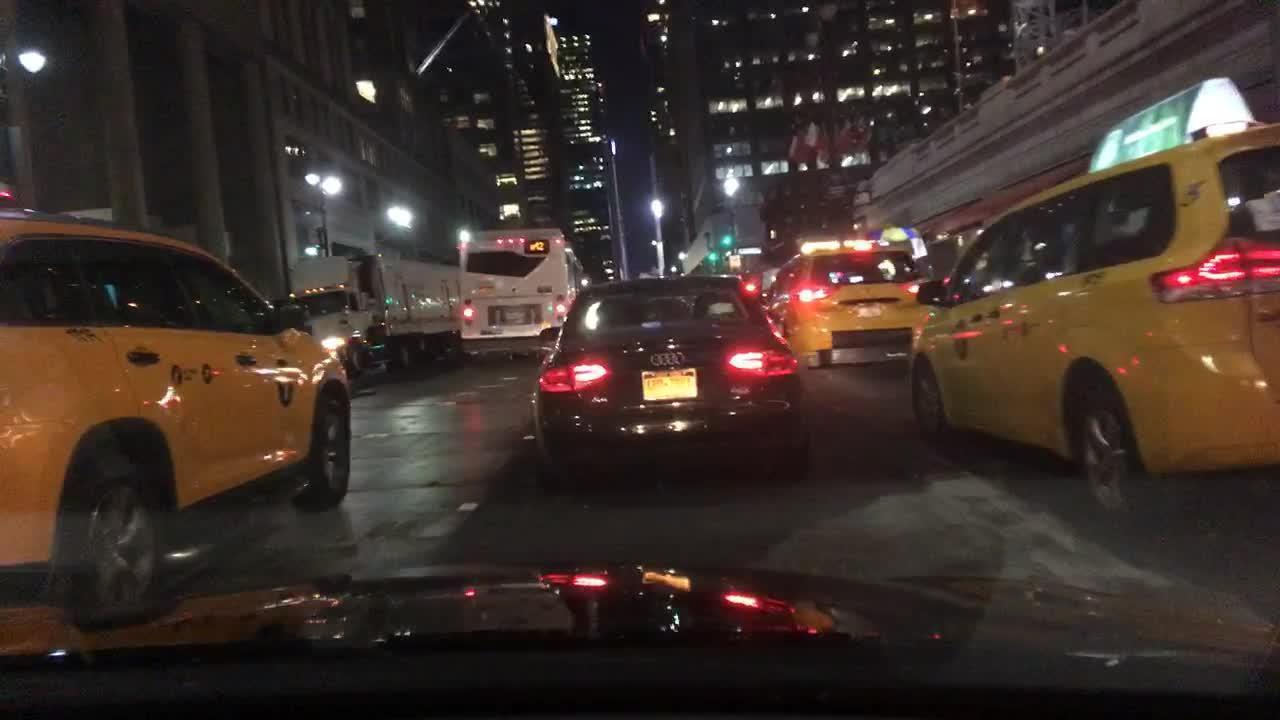Audi: (648, 350, 687, 371)
